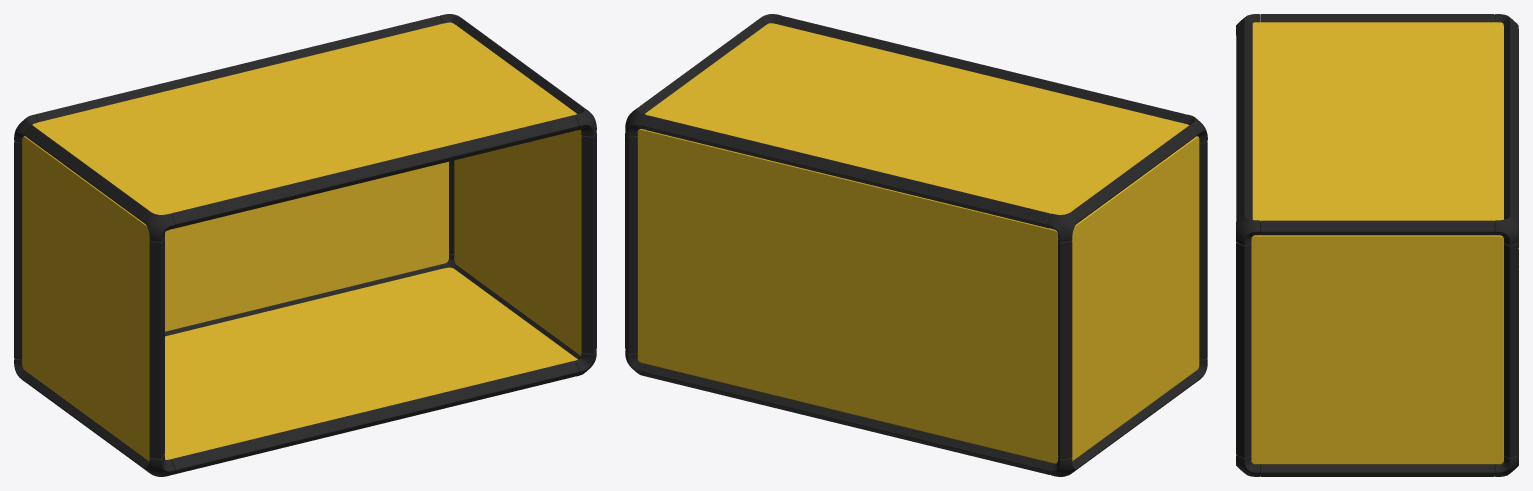
3 renders of one model, left to right at view 1: azimuth 30°, elevation 25°; view 2: azimuth 150°, elevation 25°; view 3: azimuth 270°, elevation 25°, orthographic. The views are drawn at different scales.
Visible parts, largest first — view 1: 729x374x374; view 2: 729x374x374; view 3: 729x374x374.
Boxes of the visible parts, x1,y1,x2,y2 form: 729x374x374: (14,14,596,476); 729x374x374: (625,14,1207,476); 729x374x374: (1236,14,1518,476).
Size of the model in its own units: 0.8067 by 0.4516 by 0.4513.
